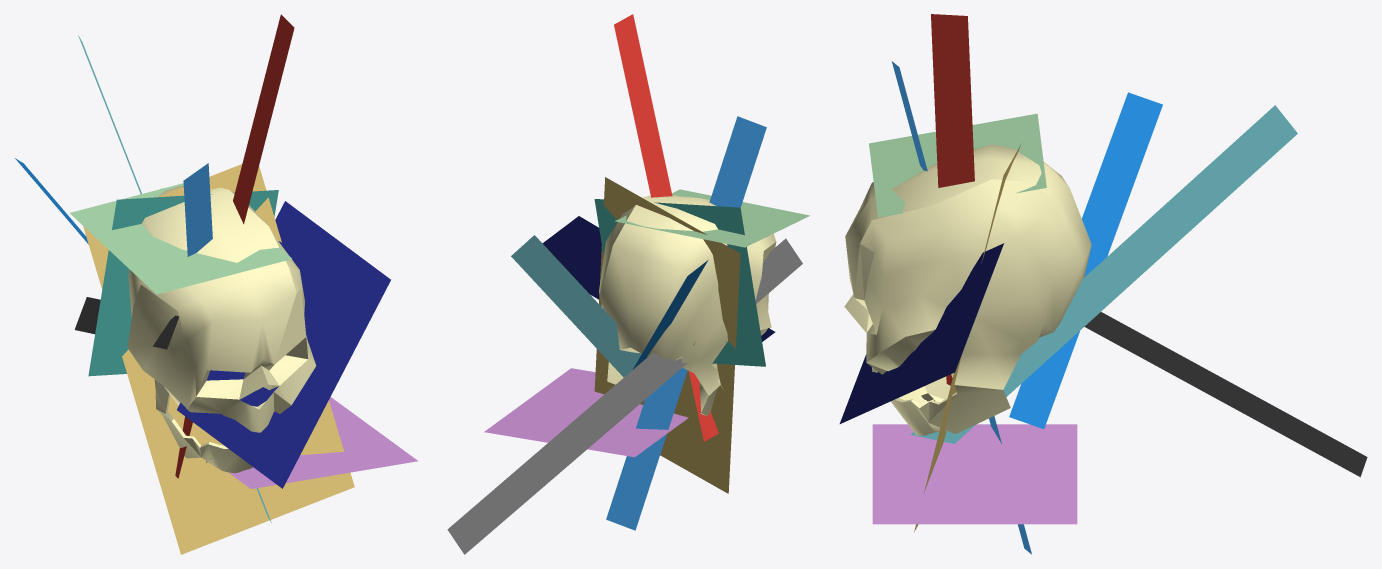
Rendered from skull3.glb.
The picture shows the model from 3 angles, left to right: view 1: azimuth 30°, elevation 25°; view 2: azimuth 150°, elevation 25°; view 3: azimuth 270°, elevation 25°; orthographic projection. The views are drawn at different scales.
Parts seen in each view (by area): view 1: skull3, Plane.074, Plane.024, Plane.067, Plane.017, Plane.058, Plane.006, Plane.008, Plane.044; view 2: skull3, Plane.044, Plane.024, Plane.008, Plane.058, Plane.035, Plane.006, Plane.017, Plane.074, Plane.067, Plane.031; view 3: skull3, Plane.058, Plane.035, Plane.031, Plane.074, Plane.044, Plane.006, Plane.067, Plane.008, Plane.024.
Part boxes in pixels (x1=…): skull3: x1=127, y1=185, x2=316, y2=473; Plane.074: x1=177, y1=201, x2=390, y2=488; Plane.024: x1=83, y1=164, x2=354, y2=554; Plane.067: x1=70, y1=183, x2=292, y2=294; Plane.017: x1=88, y1=190, x2=278, y2=376; Plane.058: x1=228, y1=397, x2=418, y2=488; Plane.006: x1=175, y1=14, x2=294, y2=478; Plane.008: x1=183, y1=163, x2=212, y2=256; Plane.044: x1=74, y1=297, x2=179, y2=349; skull3: x1=599, y1=194, x2=776, y2=416; Plane.044: x1=447, y1=238, x2=802, y2=554; Plane.024: x1=594, y1=177, x2=740, y2=493; Plane.008: x1=606, y1=116, x2=766, y2=530; Plane.058: x1=484, y1=368, x2=688, y2=457; Plane.035: x1=511, y1=235, x2=641, y2=377; Plane.006: x1=614, y1=14, x2=718, y2=441; Plane.017: x1=594, y1=199, x2=765, y2=366; Plane.074: x1=542, y1=216, x2=775, y2=341; Plane.067: x1=615, y1=189, x2=809, y2=247; Plane.031: x1=632, y1=260, x2=708, y2=369; skull3: x1=844, y1=144, x2=1091, y2=435; Plane.058: x1=872, y1=424, x2=1077, y2=524; Plane.035: x1=910, y1=105, x2=1297, y2=443; Plane.031: x1=1009, y1=92, x2=1162, y2=428; Plane.074: x1=839, y1=243, x2=1003, y2=423; Plane.044: x1=1084, y1=312, x2=1367, y2=477; Plane.006: x1=931, y1=14, x2=974, y2=385; Plane.067: x1=869, y1=113, x2=1046, y2=217; Plane.008: x1=891, y1=61, x2=1031, y2=554; Plane.024: x1=914, y1=143, x2=1021, y2=532.
Size of what is drawn, in the model's own units: 9.5 by 16.84 by 14.42.
Materials: 1 (1 with a texture image).
